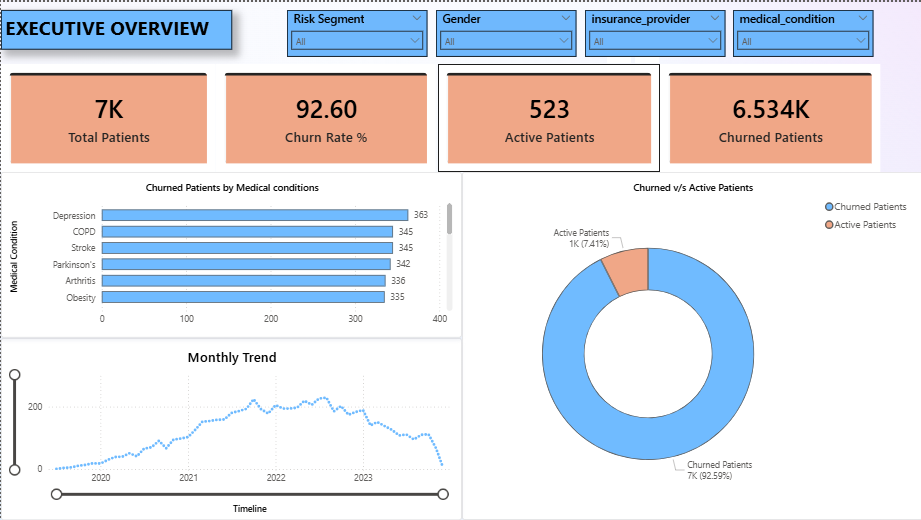

Layout of this report page (visuals, bound fields, positions):
{"tool":"powerbi","page":{"name":"Page 1","canvas":[1280,720],"ordinal":0},"visuals":[{"type":"textbox","box":[0,11,320.7,55.1],"z":0},{"type":"cardVisual","fields":{"Data":["Measures (2).Total Patients"]},"box":[0,86.7,298.7,150],"z":1000},{"type":"cardVisual","fields":{"Data":["Measures (2).Churn Rate %"]},"box":[298.7,86.7,305.5,150],"z":2000},{"type":"cardVisual","fields":{"Data":["Measures (2).Active Patients"]},"box":[607,86.7,308.3,150],"z":3000},{"type":"donutChart","title":"Churned v/s Active Patients","fields":{"Y":["Measures (2).Churned Patients","Measures (2).Active Patients"]},"box":[640,236.7,640,483.1],"z":4000},{"type":"lineChart","title":"Monthly Trend","fields":{"Y":["Measures (2).Churned Patients"],"Category":["hospital_churn_finall2.last_admission.Variation.Date Hierarchy.Year","hospital_churn_finall2.last_admission.Variation.Date Hierarchy.Month"]},"box":[0,466.6,640,253.2],"z":5000},{"type":"clusteredBarChart","title":"Churned Patients by Medical conditions","fields":{"Category":["hospital_churn_finall2.medical_condition"],"Y":["Measures (2).Churned Patients"]},"box":[0,236.7,640,229.8],"z":6000},{"type":"cardVisual","fields":{"Data":["Measures (2).Churned Patients"]},"box":[915.3,86.7,306.9,150],"z":7000},{"type":"slicer","fields":{"Values":["hospital_churn_finall2.insurance_provider"]},"box":[810.7,11,195.4,64.7],"z":7001},{"type":"slicer","fields":{"Values":["hospital_churn_finall2.medical_condition"]},"box":[1017.1,11,195.4,64.7],"z":7002},{"type":"slicer","fields":{"Values":["hospital_churn_finall2.gender"]},"box":[604.2,11,195.4,64.7],"z":7003},{"type":"slicer","fields":{"Values":["hospital_churn_finall2.Risk Segment"]},"box":[397.8,11,195.4,64.7],"z":7004}]}

Visuals, with their boxes in screenshot pixels (x1, y1, x2, y2), scaled from the page's 1280x720 canvas onto the 921x520 screenshot:
textbox: bbox=[0, 8, 231, 48]
cardVisual - Measures (2).Total Patients: bbox=[0, 63, 215, 171]
cardVisual - Measures (2).Churn Rate %: bbox=[215, 63, 435, 171]
cardVisual - Measures (2).Active Patients: bbox=[437, 63, 659, 171]
"Churned v/s Active Patients" donutChart: bbox=[460, 171, 920, 519]
"Monthly Trend" lineChart: bbox=[0, 337, 460, 519]
"Churned Patients by Medical conditions" clusteredBarChart: bbox=[0, 171, 460, 337]
cardVisual - Measures (2).Churned Patients: bbox=[659, 63, 879, 171]
slicer - hospital_churn_finall2.insurance_provider: bbox=[583, 8, 724, 55]
slicer - hospital_churn_finall2.medical_condition: bbox=[732, 8, 872, 55]
slicer - hospital_churn_finall2.gender: bbox=[435, 8, 575, 55]
slicer - hospital_churn_finall2.Risk Segment: bbox=[286, 8, 427, 55]
